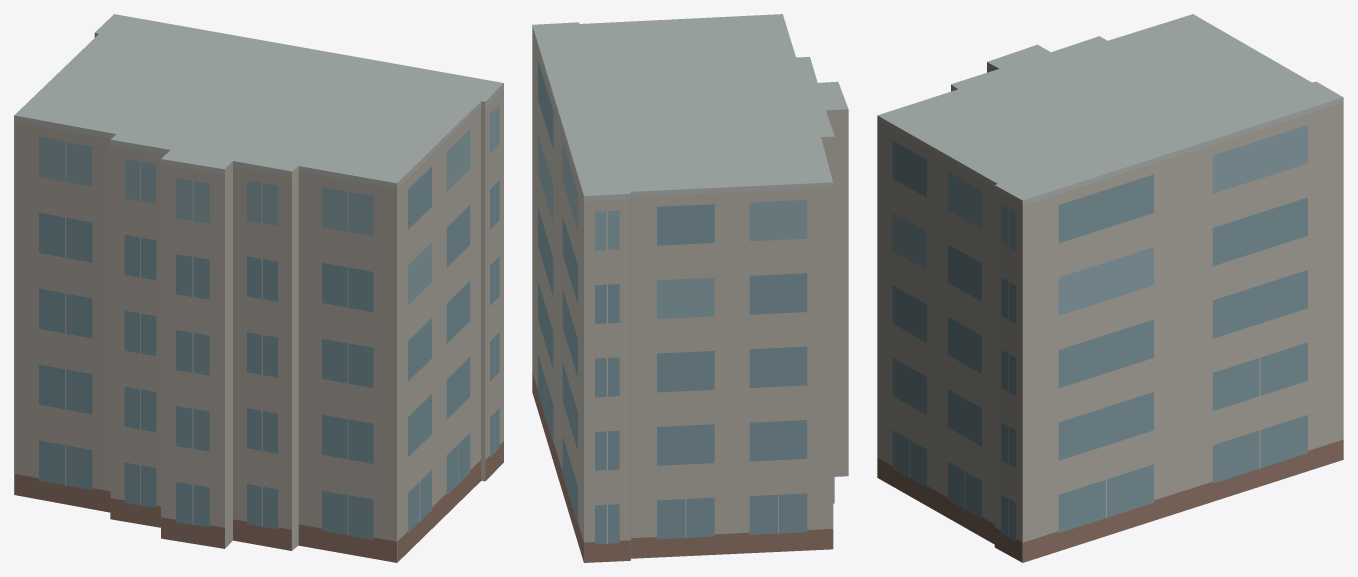
File: survey-upis-32706832.glb
3 views of the same model, side by side, from view 1: azimuth 30°, elevation 25°; view 2: azimuth 150°, elevation 25°; view 3: azimuth 270°, elevation 25° (orthographic). The views are drawn at different scales.
Visible parts, largest first — view 1: survey-upis-32706832.tmp; view 2: survey-upis-32706832.tmp; view 3: survey-upis-32706832.tmp.
Boxes of the visible parts, bbox=[...] form: survey-upis-32706832.tmp: bbox=[14, 14, 503, 562]; survey-upis-32706832.tmp: bbox=[532, 14, 848, 562]; survey-upis-32706832.tmp: bbox=[877, 14, 1343, 562].
Bounding box in the file's own units: 18.45 × 16.7 × 19.49.
